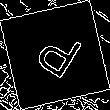P_SW: (26, 24, 84, 86)
